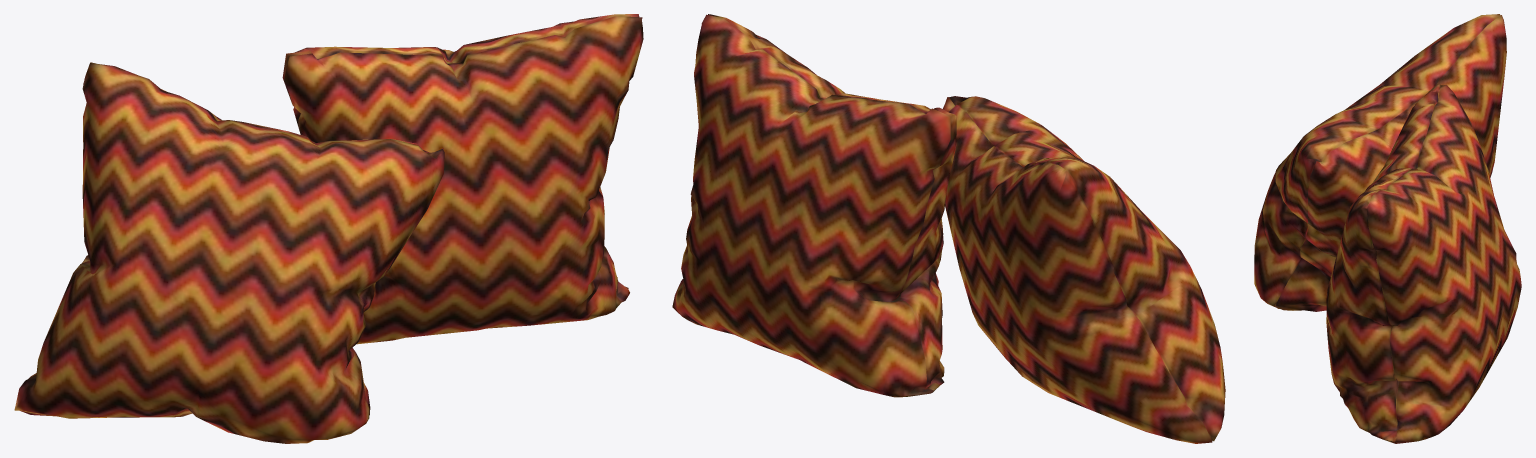
The model's file is cushions.mobile.glb.
3 renders of one model, left to right at view 1: azimuth 30°, elevation 25°; view 2: azimuth 150°, elevation 25°; view 3: azimuth 270°, elevation 25°, orthographic. The views are drawn at different scales.
Parts seen in each view (by area): view 1: throw_pillows_01_pillow02; view 2: throw_pillows_01_pillow02; view 3: throw_pillows_01_pillow02.
Part boxes in pixels (x1,y1,x2,y2): throw_pillows_01_pillow02: (14, 14, 643, 443); throw_pillows_01_pillow02: (672, 14, 1225, 443); throw_pillows_01_pillow02: (1254, 14, 1521, 443).
Size of the model in its own units: 0.9397 by 0.45 by 0.4503.
Materials: 1 (1 with a texture image).
